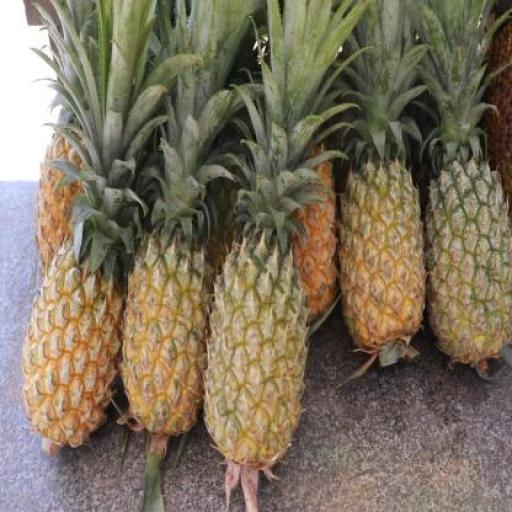------------------------------: (208, 238, 310, 454)
Pineapple - v8 v1: (21, 250, 128, 461), (122, 232, 214, 430), (337, 167, 424, 351), (36, 133, 107, 311)
